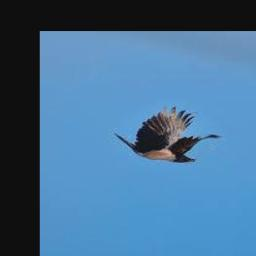Crow: (114, 108, 222, 164)
